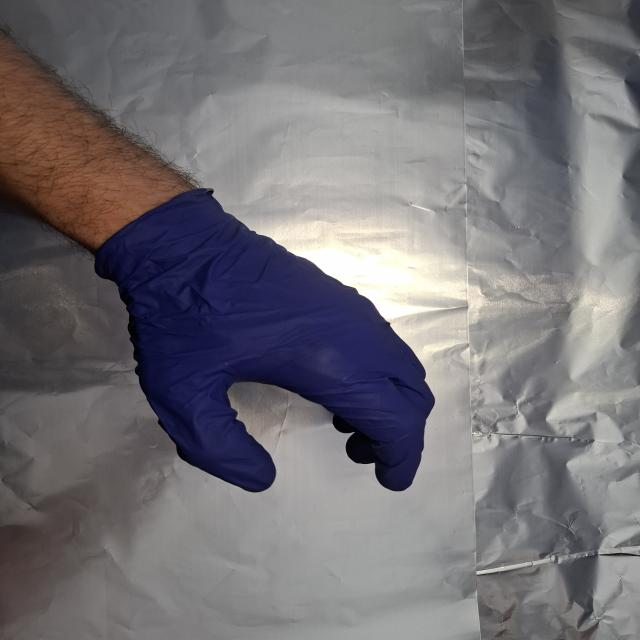glove_on: (102, 187, 439, 496)
